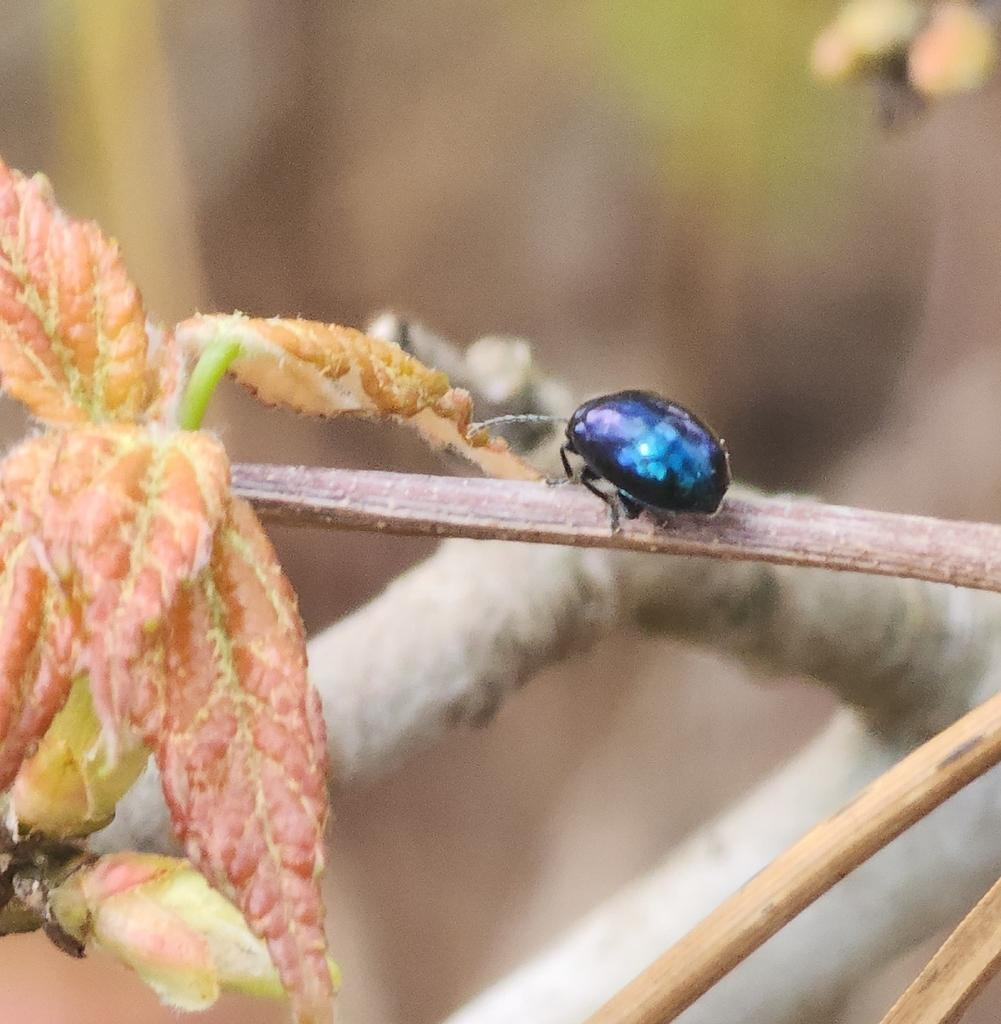flea_beetle: (471, 355, 766, 575)
